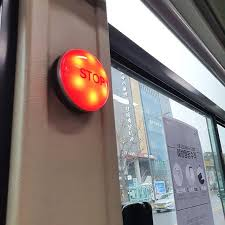bell: (52, 45, 112, 124)
